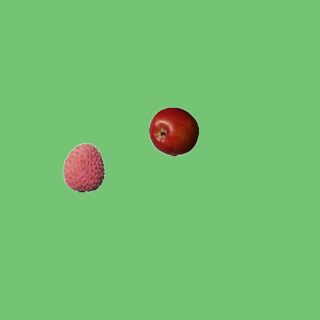Apple Braeburn: (148, 106, 198, 156)
Lychee: (58, 142, 108, 192)
